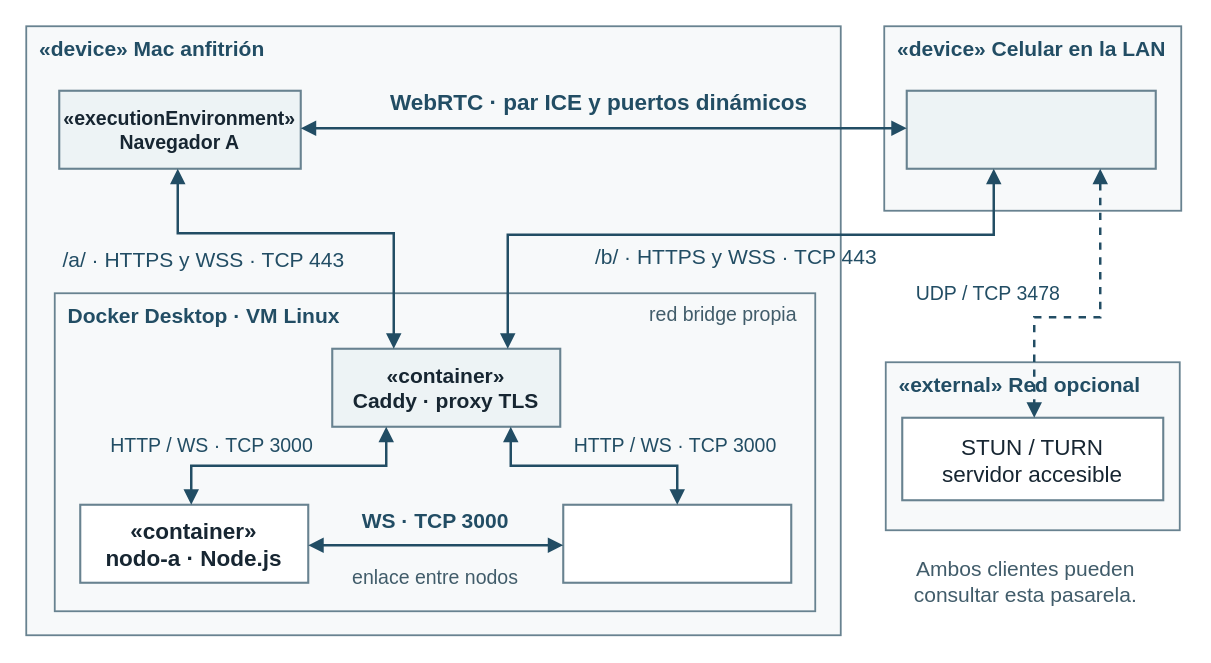
This 1211x663 diagram has some shape labels left out. Here are the shapes that lost their labels. From the top down, the centre of each, then its label:
pixel 1030 129: «executionEnvironment» Navegador B
pixel 676 543: «container» nodo-b · Node.js
